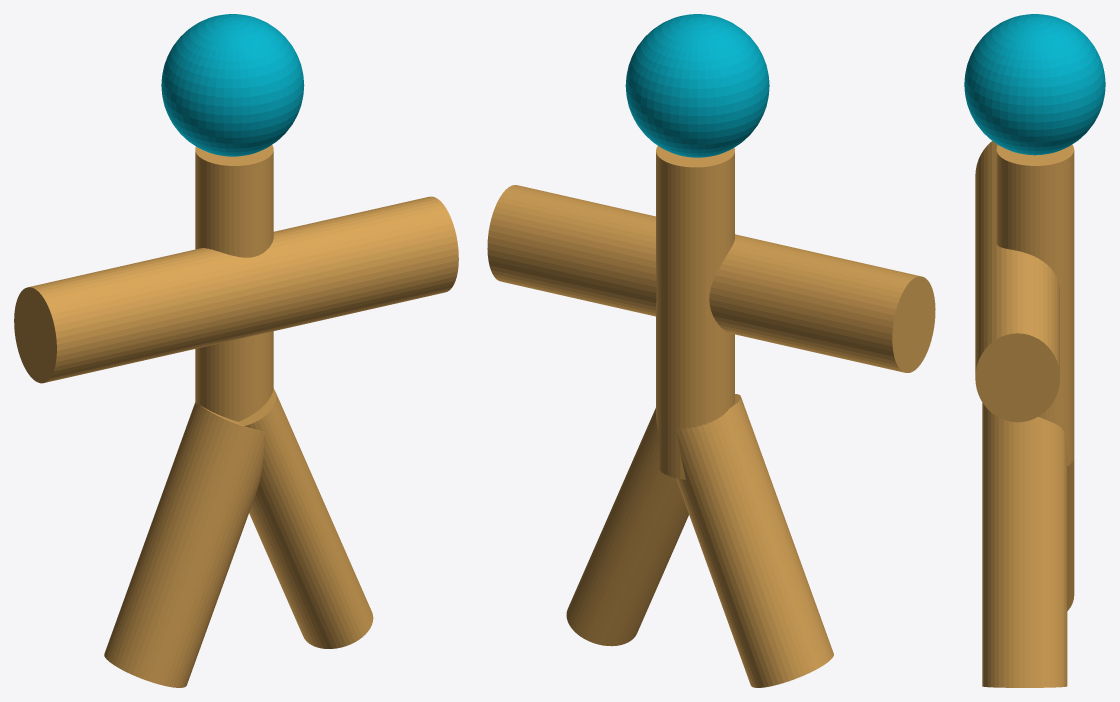
The model's file is tip.glb.
3 renders of one model, left to right at view 1: azimuth 30°, elevation 25°; view 2: azimuth 150°, elevation 25°; view 3: azimuth 270°, elevation 25°, orthographic.
Parts seen in each view (by area): view 1: Mesh_Mesh_head_geo.001_lambert2SG.001; view 2: Mesh_Mesh_head_geo.001_lambert2SG.001; view 3: Mesh_Mesh_head_geo.001_lambert2SG.001.
Boxes of the visible parts, x1,y1,x2,y2 form: Mesh_Mesh_head_geo.001_lambert2SG.001: (14, 14, 458, 687); Mesh_Mesh_head_geo.001_lambert2SG.001: (487, 14, 935, 687); Mesh_Mesh_head_geo.001_lambert2SG.001: (964, 14, 1105, 687).
Size of the model in its own units: 65.23 by 98.81 by 20.
